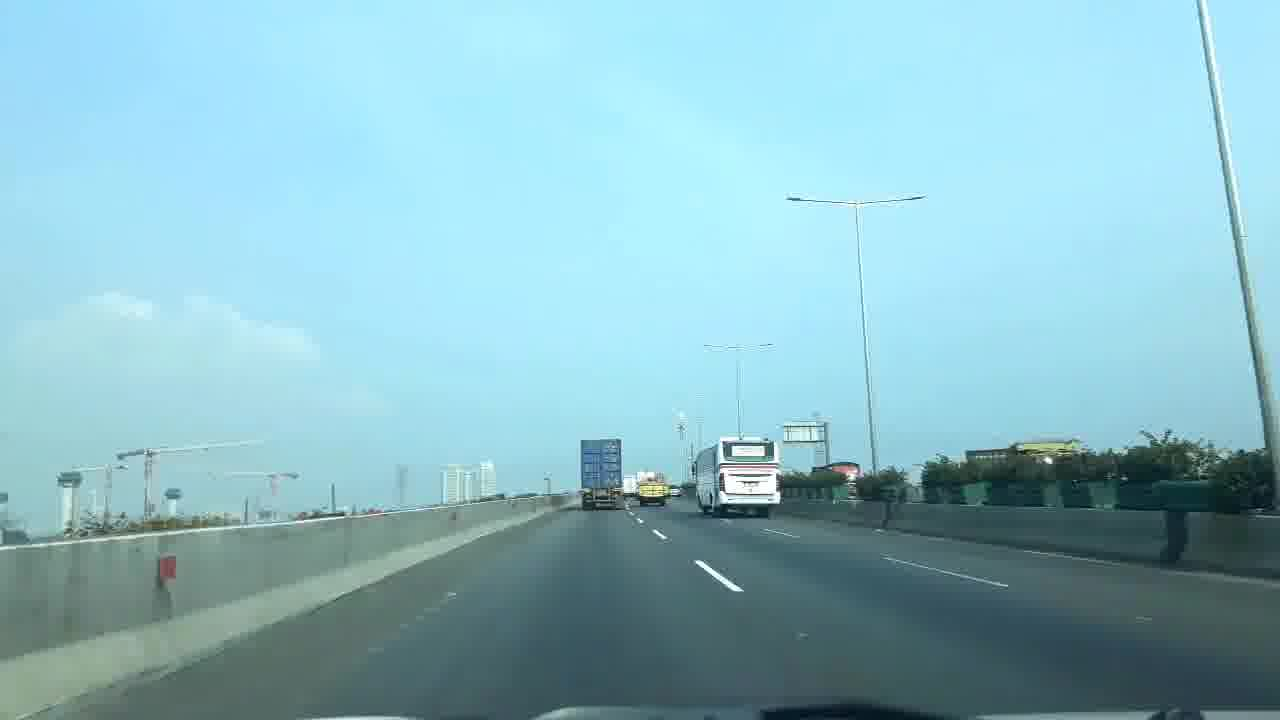plate_positive: (743, 482, 759, 487)
